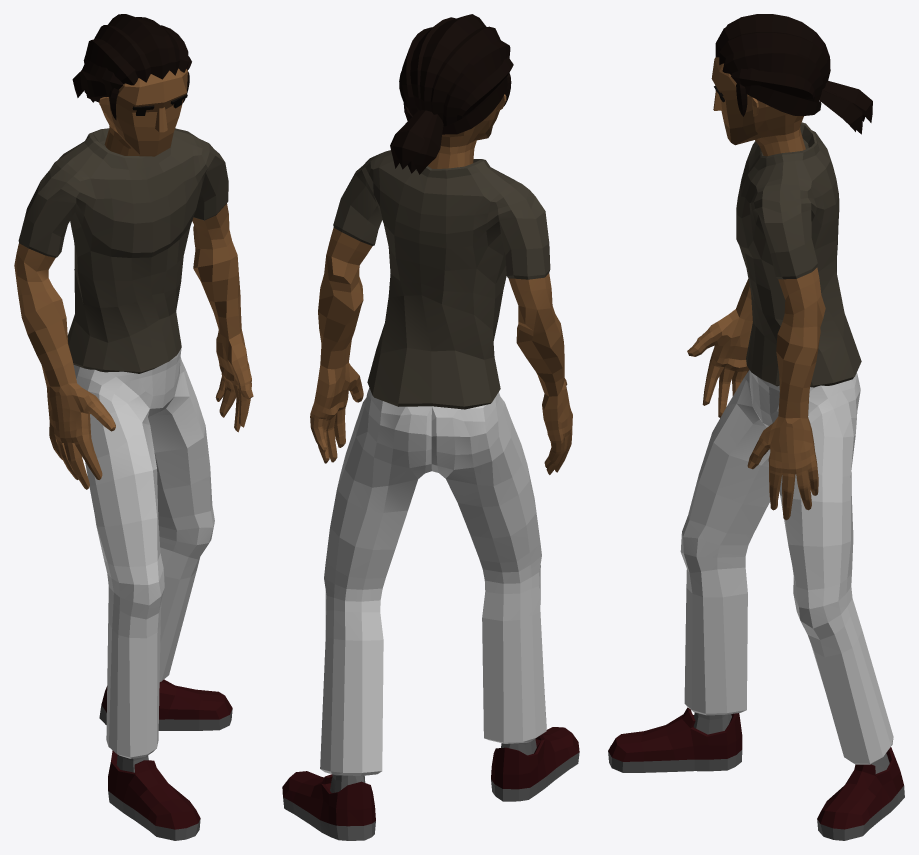
File: orangkampus1.obj
3 renders of one model, left to right at view 1: azimuth 30°, elevation 25°; view 2: azimuth 150°, elevation 25°; view 3: azimuth 270°, elevation 25°, orthographic. The views are drawn at different scales.
Parts seen in each view (by area): view 1: Casual2_Body, Casual2_Legs, Casual2_Head, Casual2_Feet; view 2: Casual2_Body, Casual2_Legs, Casual2_Head, Casual2_Feet; view 3: Casual2_Legs, Casual2_Body, Casual2_Head, Casual2_Feet.
Boxes of the visible parts, x1,y1,x2,y2 form: Casual2_Body: (14,128,253,489); Casual2_Legs: (73,340,214,758); Casual2_Head: (72,14,191,156); Casual2_Feet: (99,679,232,840); Casual2_Body: (310,150,572,474); Casual2_Legs: (320,388,546,775); Casual2_Head: (390,14,513,174); Casual2_Feet: (282,727,579,840); Casual2_Legs: (680,370,893,764); Casual2_Body: (687,122,861,520); Casual2_Head: (711,14,872,156); Casual2_Feet: (608,707,904,840).
Bounding box in the file's own units: 0.9556 × 2.92 × 1.03.
